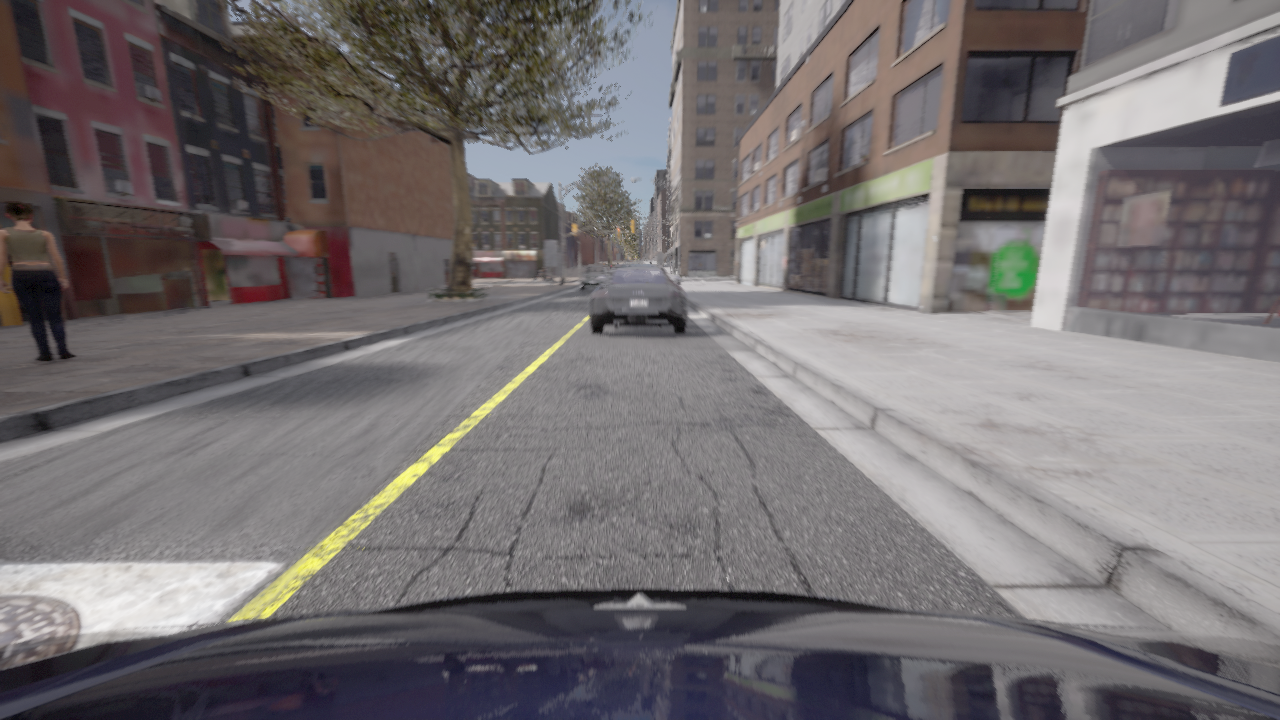cyclist: (0, 588, 1279, 719), (589, 265, 687, 333), (580, 265, 609, 290), (532, 272, 554, 282)
pedestrian: (0, 202, 76, 361)
